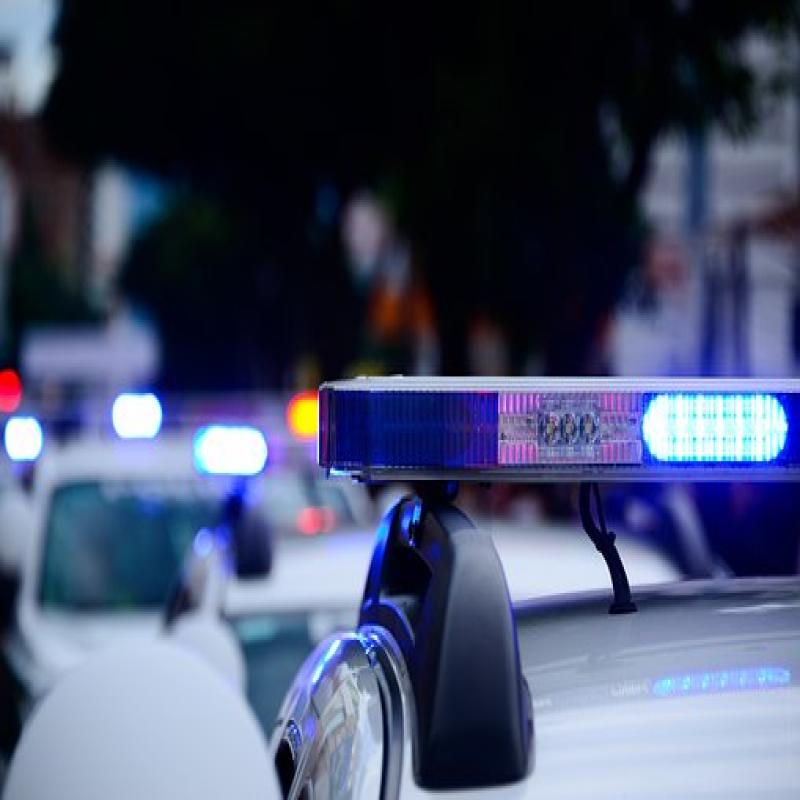AmbulanceSiren: (316, 348, 800, 506)
